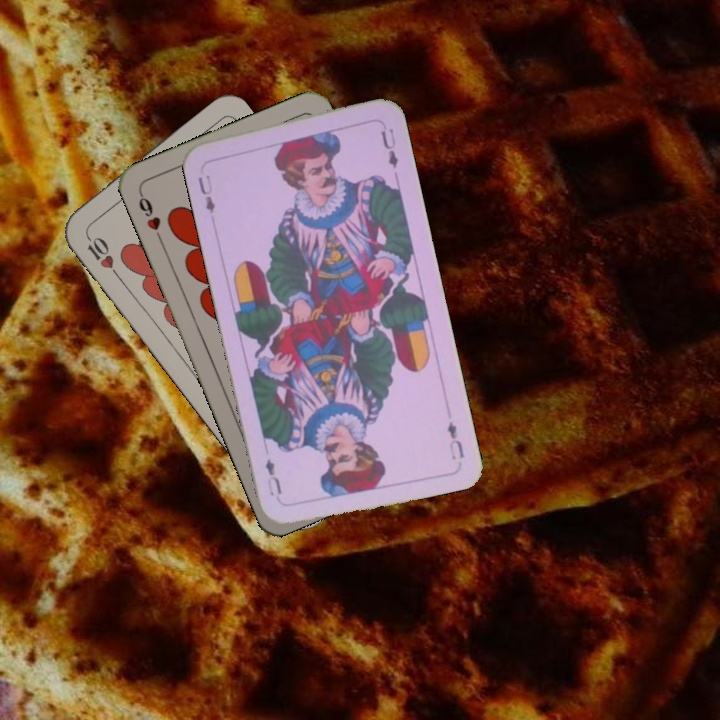EU: (194, 171, 218, 216), (443, 417, 467, 462)
H10: (81, 229, 122, 280)
H9: (134, 188, 165, 244)
